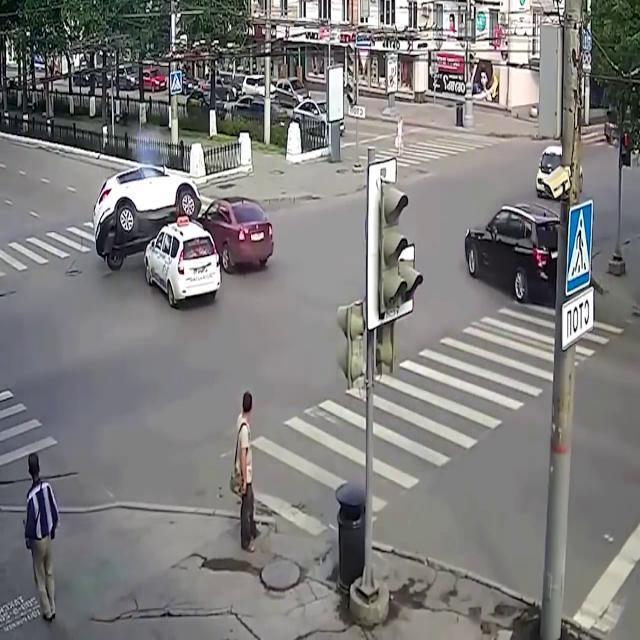accident: (91, 163, 276, 311)
non-accident: (70, 62, 346, 138), (462, 144, 580, 308)
